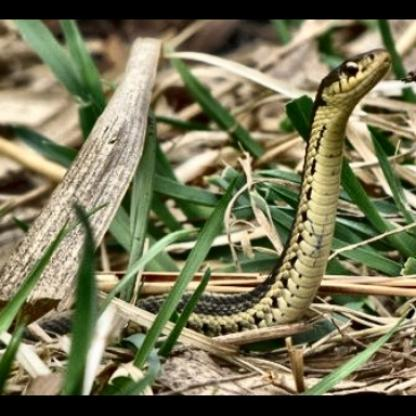Snake: (190, 48, 393, 338)
